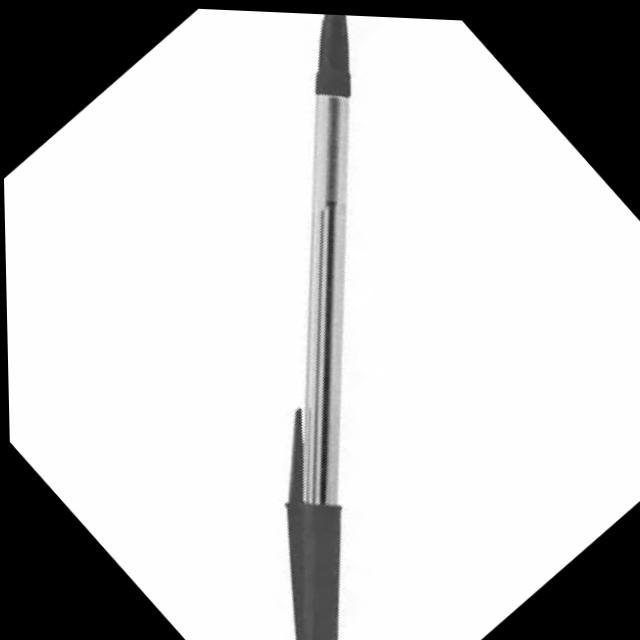pencil: (290, 16, 379, 639)
